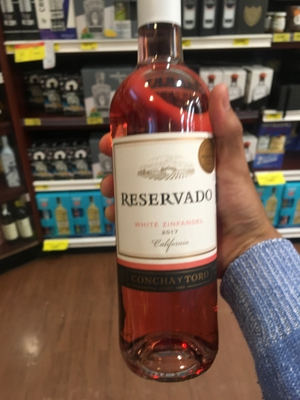reservado white zinfandel: (105, 5, 232, 379)
